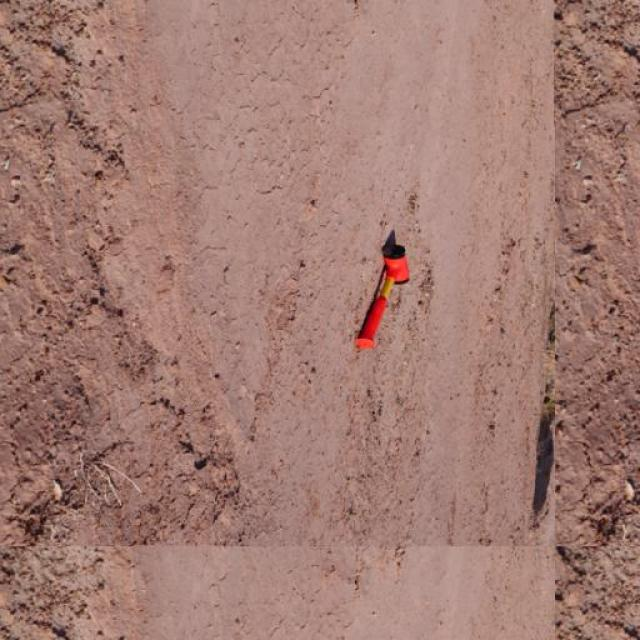mallet: (355, 228, 411, 352)
